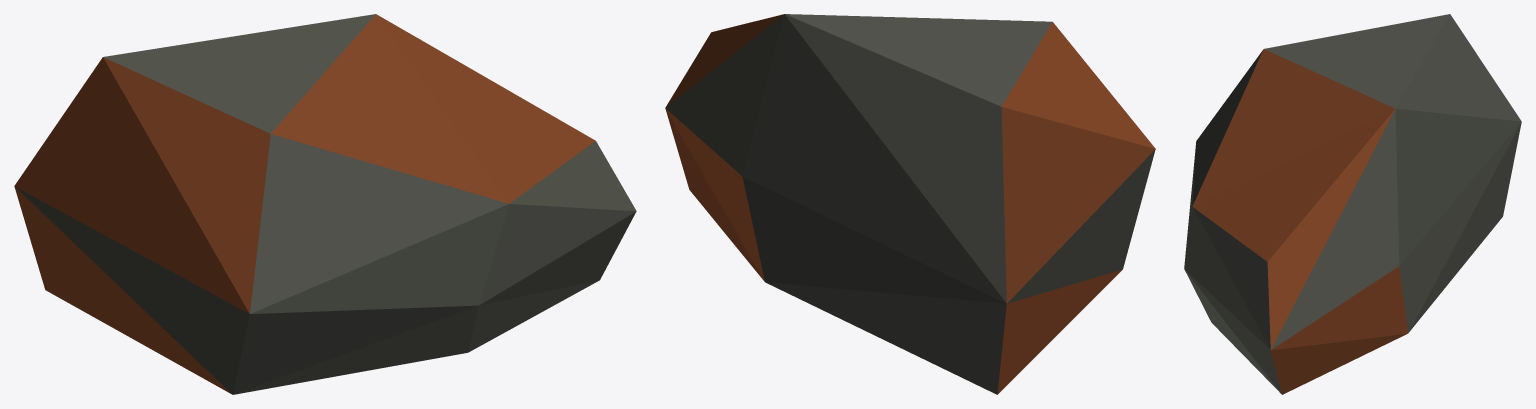
File: ore_copper_v03_lod2.glb
3 renders of one model, left to right at view 1: azimuth 30°, elevation 25°; view 2: azimuth 150°, elevation 25°; view 3: azimuth 270°, elevation 25°, orthographic. The views are drawn at different scales.
Visible parts, largest first — view 1: ore_copper_v03_lod2; view 2: ore_copper_v03_lod2; view 3: ore_copper_v03_lod2.
Part boxes in pixels (<box>): ore_copper_v03_lod2: <box>14,14,636,394</box>; ore_copper_v03_lod2: <box>665,14,1155,394</box>; ore_copper_v03_lod2: <box>1184,14,1521,394</box>.
Bounding box in the file's own units: 2.14 × 1.1 × 1.53.
